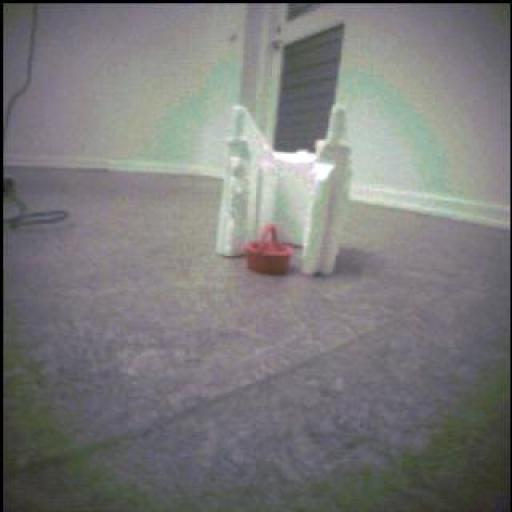Bucket: (246, 224, 295, 276)
